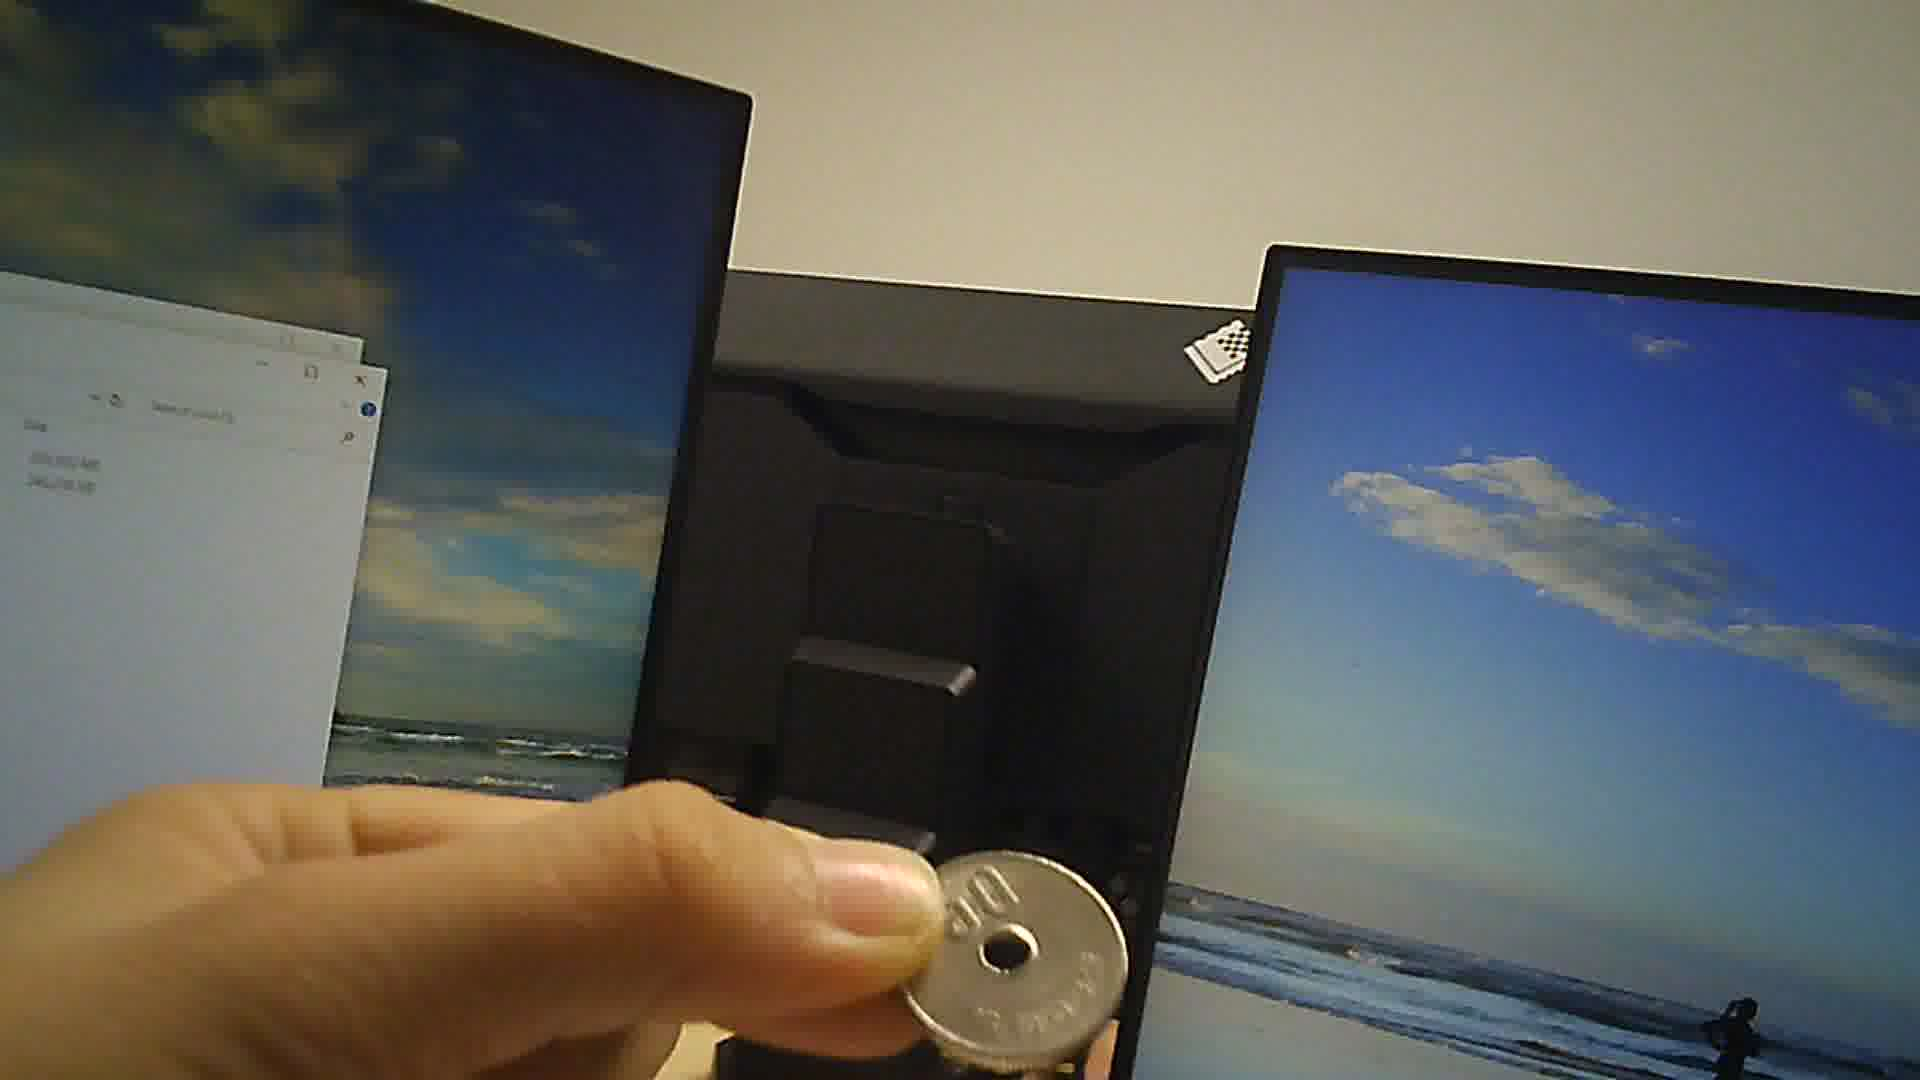50 Yen: (895, 847, 1138, 1076)
